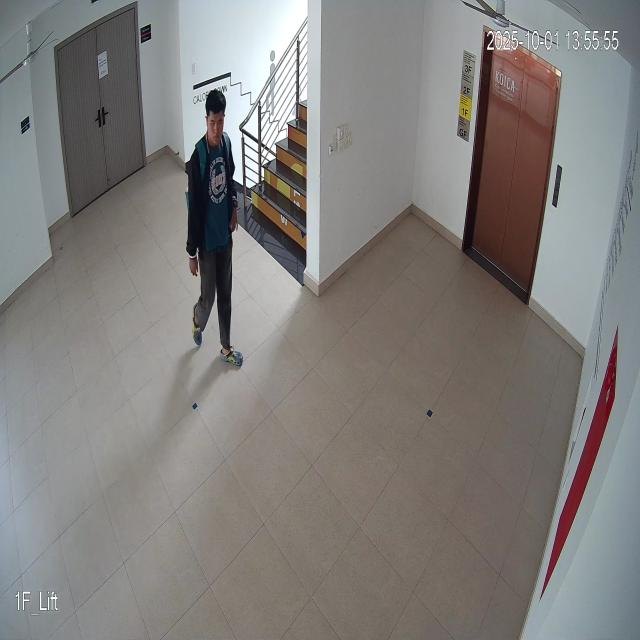face: (200, 87, 230, 158)
